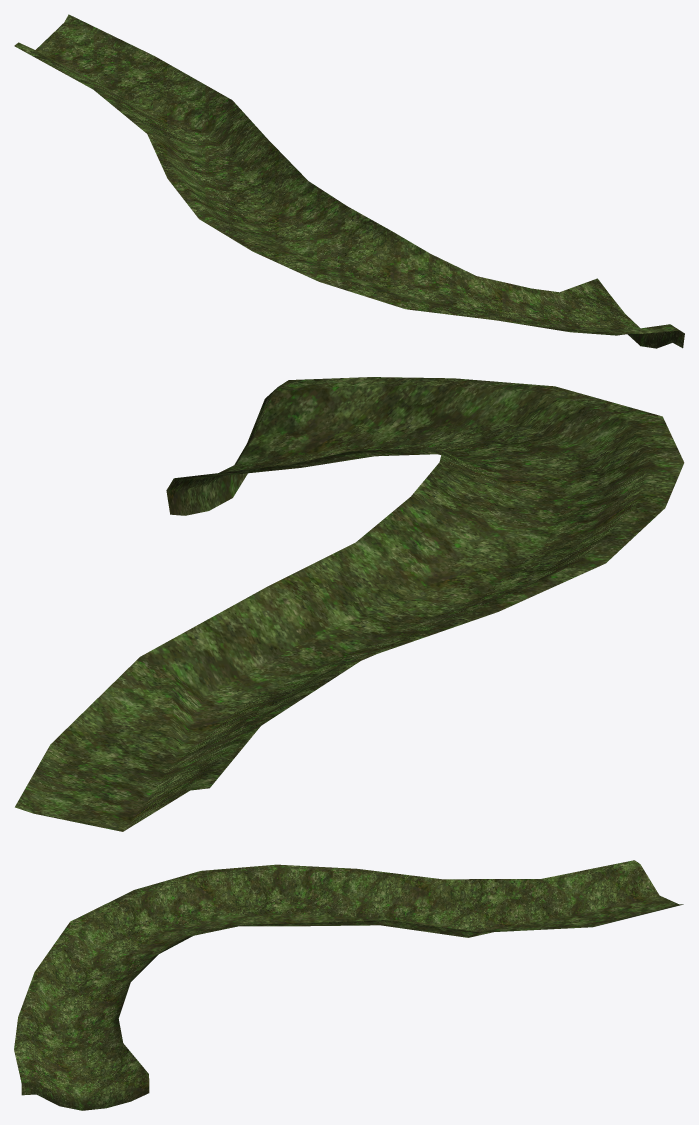
File: OVERHILL_A_01_OH_HACK_37465.fbx
3 views of the same model, one above another, from view 1: azimuth 30°, elevation 25°; view 2: azimuth 150°, elevation 25°; view 3: azimuth 270°, elevation 25° (orthographic). The views are drawn at different scales.
Parts seen in each view (by area): view 1: OVERHILL_A_01_OH_HACK_37465; view 2: OVERHILL_A_01_OH_HACK_37465; view 3: OVERHILL_A_01_OH_HACK_37465.
Part boxes in pixels (x1,y1,x2,y2): OVERHILL_A_01_OH_HACK_37465: (14,14,684,348); OVERHILL_A_01_OH_HACK_37465: (15,377,684,831); OVERHILL_A_01_OH_HACK_37465: (14,860,683,1110).
Bounding box in the file's own units: 69886 × 27823 × 139186.
1 material, 1 textured.
